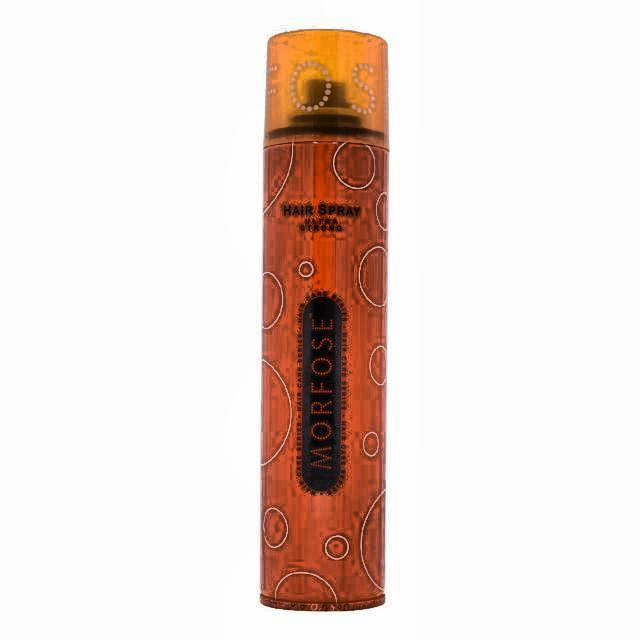metal: (259, 28, 389, 615)
